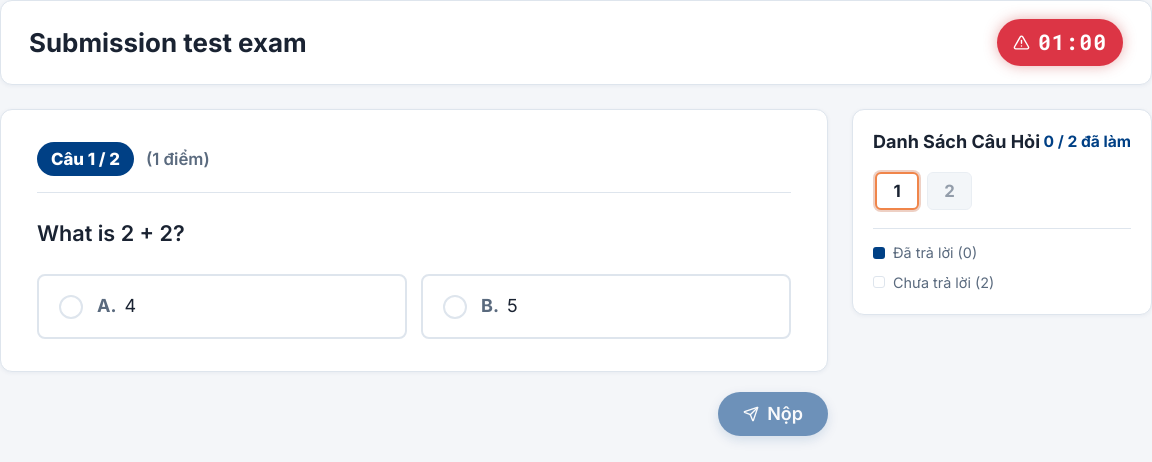
SequentialExamTakingView submission flow › auto-continues a correct answer once using the server advanceAfter deadline
What coordinates should you click on to do the following:
click the button "A. 4"
I would click on:
 (71, 307)
Its box is [37, 274, 407, 339].
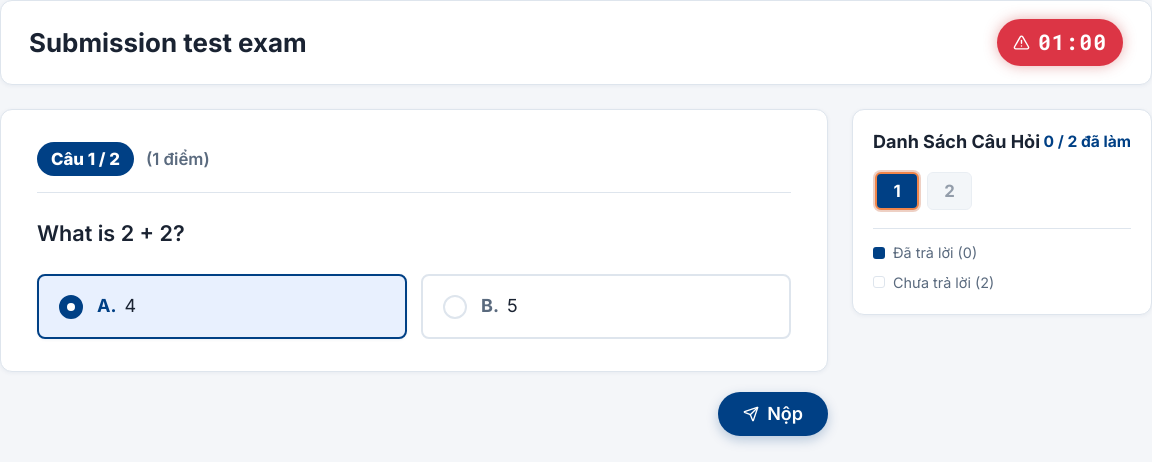
What coordinates should you click on to do the following:
click the button "Nộp"
I would click on:
 (773, 414)
Its box is [718, 392, 828, 436].
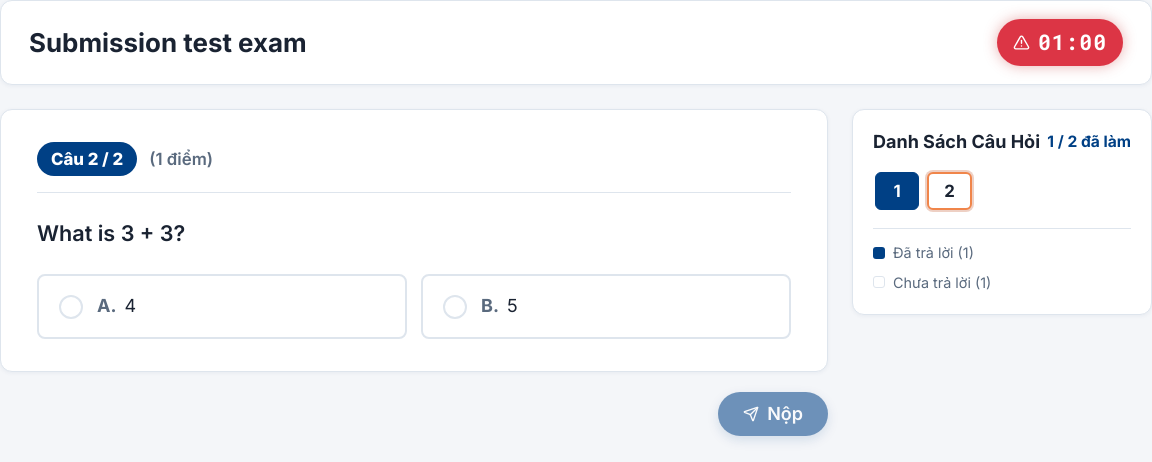
Expected: the button named "Tiếp tục" is disabled, [718, 392, 828, 436]
